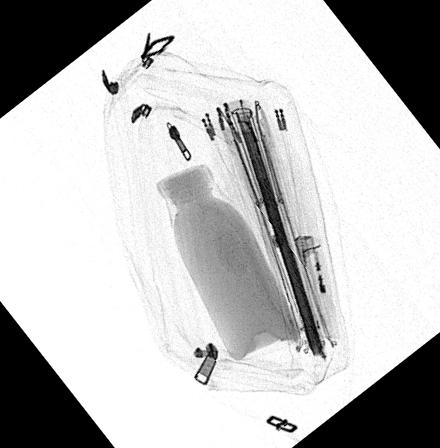Lighter: (292, 231, 339, 337)
